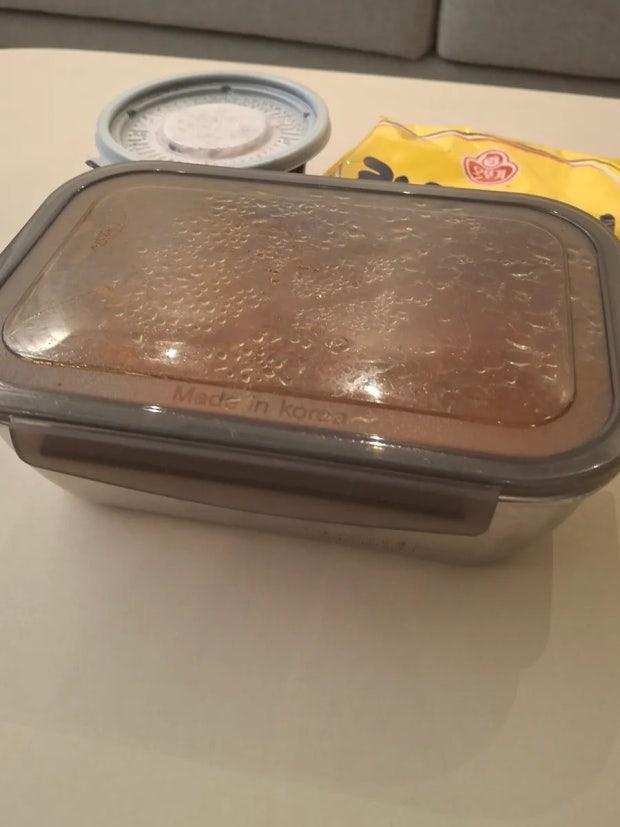Lunch Box: (0, 162, 619, 562), (89, 71, 330, 172)
